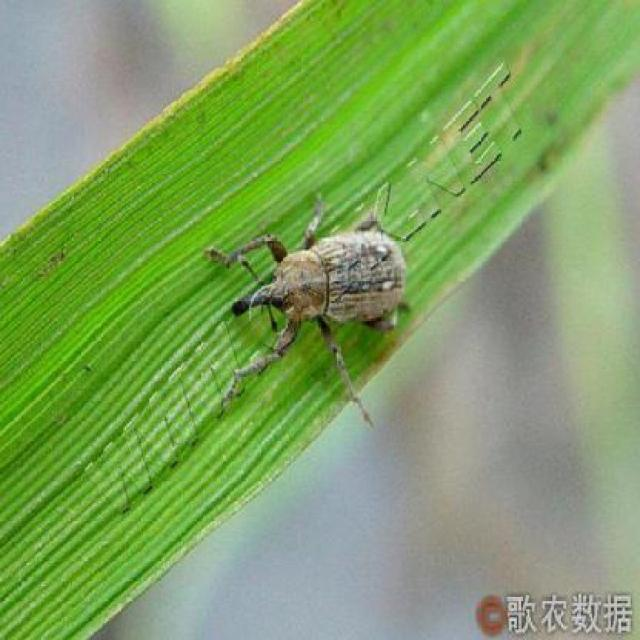rice-bug: (221, 199, 413, 396)
